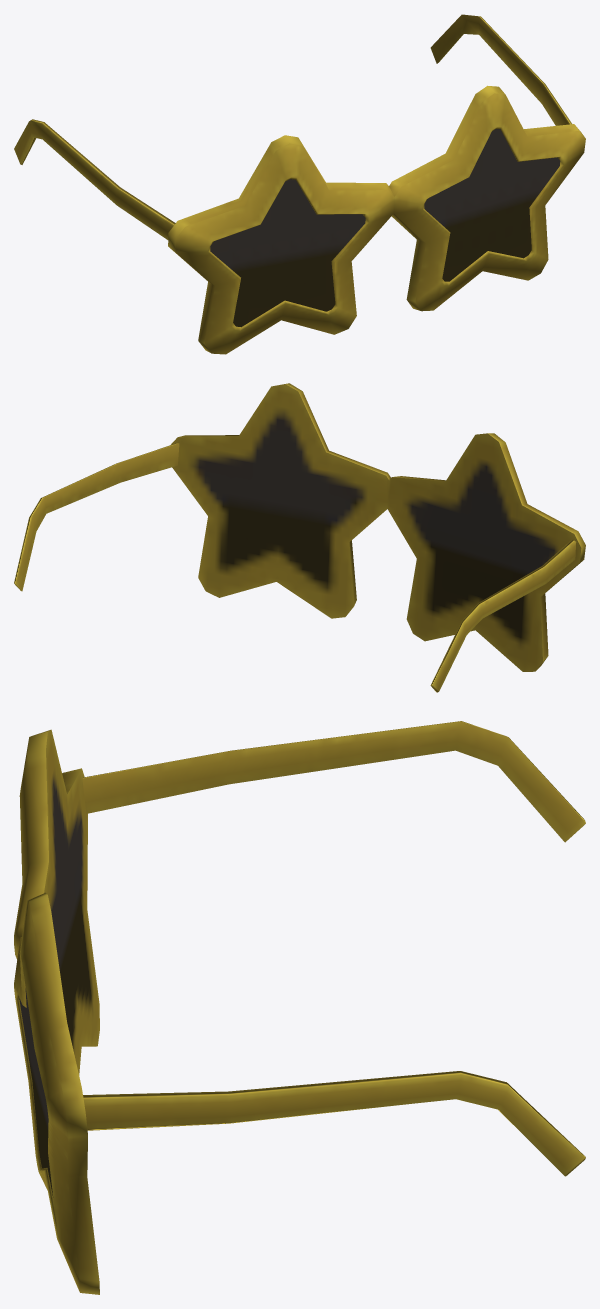
File: p0_eyw1009_00_eyw00.gltf
3 renders of one model, top to bottom at view 1: azimuth 30°, elevation 25°; view 2: azimuth 150°, elevation 25°; view 3: azimuth 270°, elevation 25°, orthographic. The views are drawn at different scales.
Parts seen in each view (by area): view 1: eyw00_frame_mesh_shape:eyewear; view 2: eyw00_frame_mesh_shape:eyewear; view 3: eyw00_frame_mesh_shape:eyewear.
Part boxes in pixels (x1,y1,x2,y2): eyw00_frame_mesh_shape:eyewear: [14, 14, 585, 354]; eyw00_frame_mesh_shape:eyewear: [14, 383, 585, 692]; eyw00_frame_mesh_shape:eyewear: [14, 721, 585, 1294].
Size of what is drawn, in the model's own units: 0.2067 by 0.0966 by 0.1408.
1 material, 1 textured.
